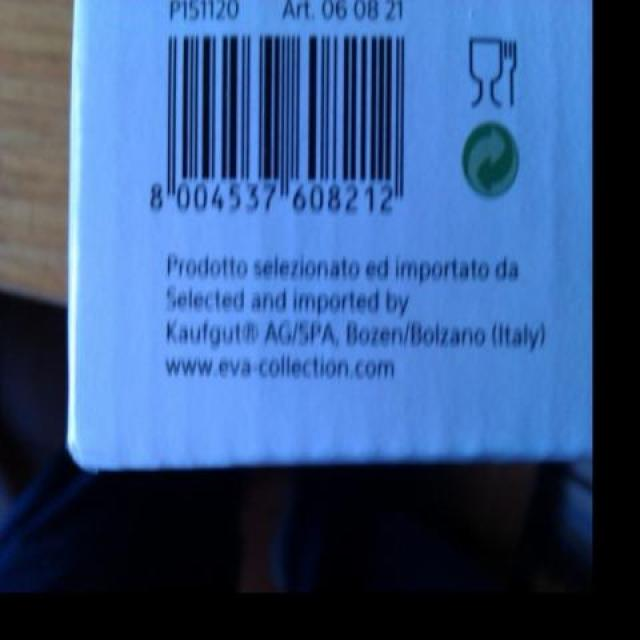Barcode: (135, 25, 428, 228)
